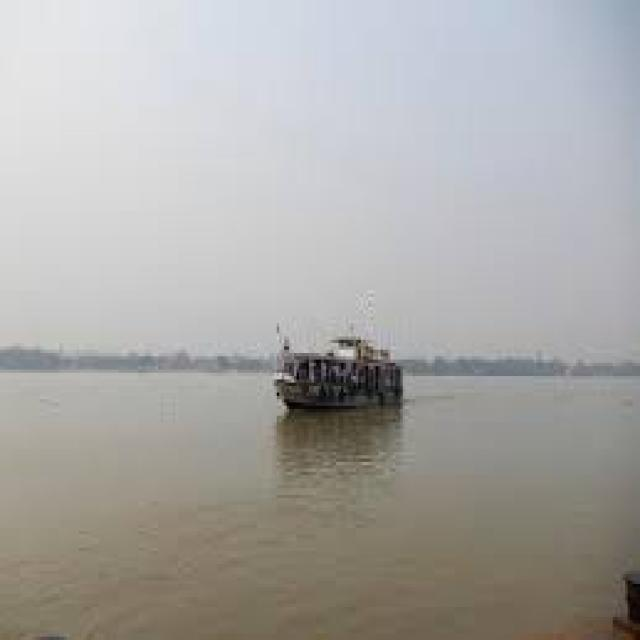houseboat: (268, 315, 409, 414)
